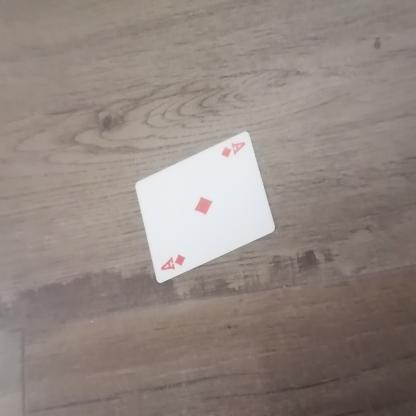AD: (158, 250, 202, 279), (220, 137, 249, 166)
